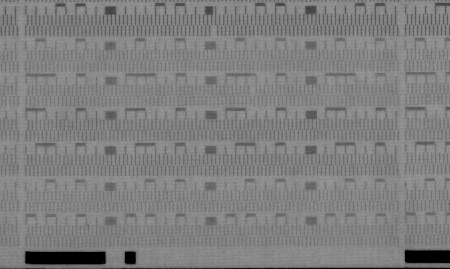Broken hole: (207, 26, 222, 39)
